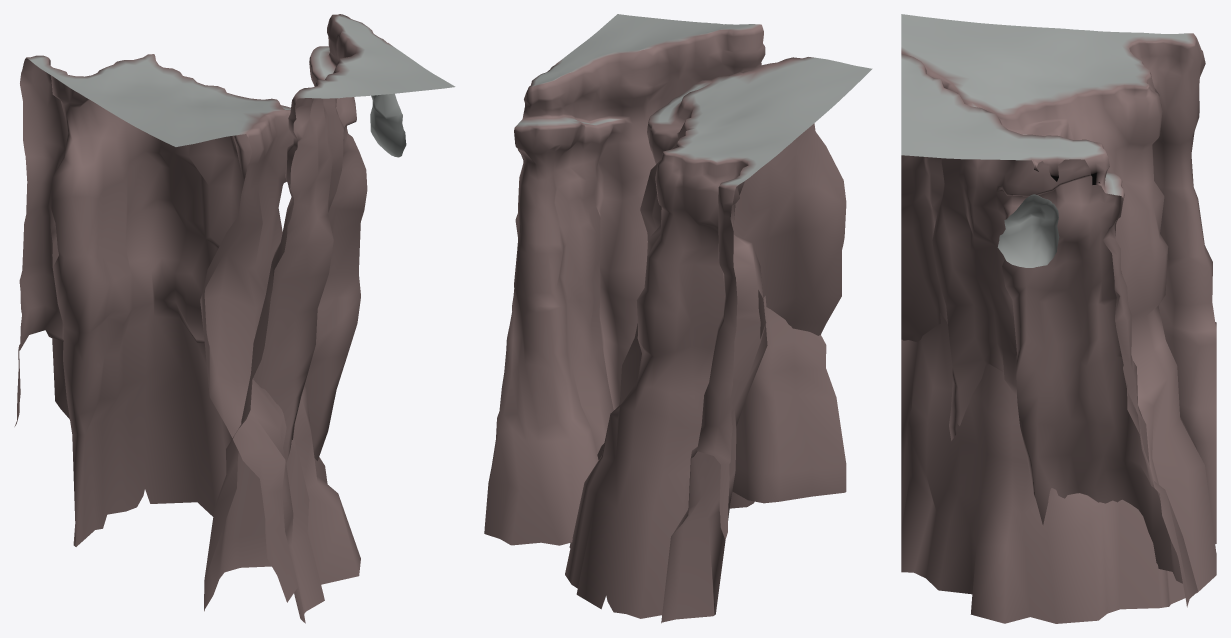
3 renders of one model, left to right at view 1: azimuth 30°, elevation 25°; view 2: azimuth 150°, elevation 25°; view 3: azimuth 270°, elevation 25°, orthographic. The views are drawn at different scales.
Parts seen in each view (by area): view 1: G:\FFXIV-MapTools\exports\u5f1\bg\ex4\04_uvs_u5\fld\u5f1\bgp (×10); view 2: G:\FFXIV-MapTools\exports\u5f1\bg\ex4\04_uvs_u5\fld\u5f1\bgp (×11); view 3: G:\FFXIV-MapTools\exports\u5f1\bg\ex4\04_uvs_u5\fld\u5f1\bgp (×14).
Boxes of the visible parts, x1,y1,x2,y2 form: G:\FFXIV-MapTools\exports\u5f1\bg\ex4\04_uvs_u5\fld\u5f1\bgp (×10): (14, 14, 455, 623); G:\FFXIV-MapTools\exports\u5f1\bg\ex4\04_uvs_u5\fld\u5f1\bgp (×11): (484, 14, 856, 623); G:\FFXIV-MapTools\exports\u5f1\bg\ex4\04_uvs_u5\fld\u5f1\bgp (×14): (901, 14, 1216, 623).
Bounding box in the file's own units: 128 × 234 × 128.
